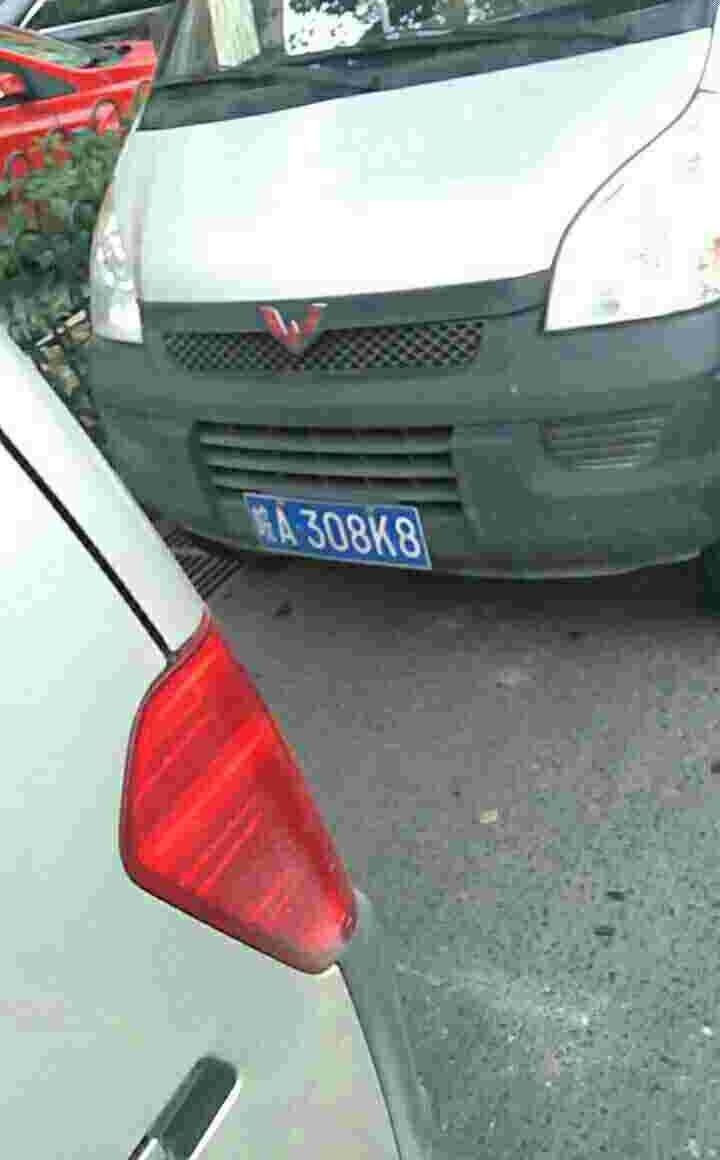car: (240, 497, 436, 570)
